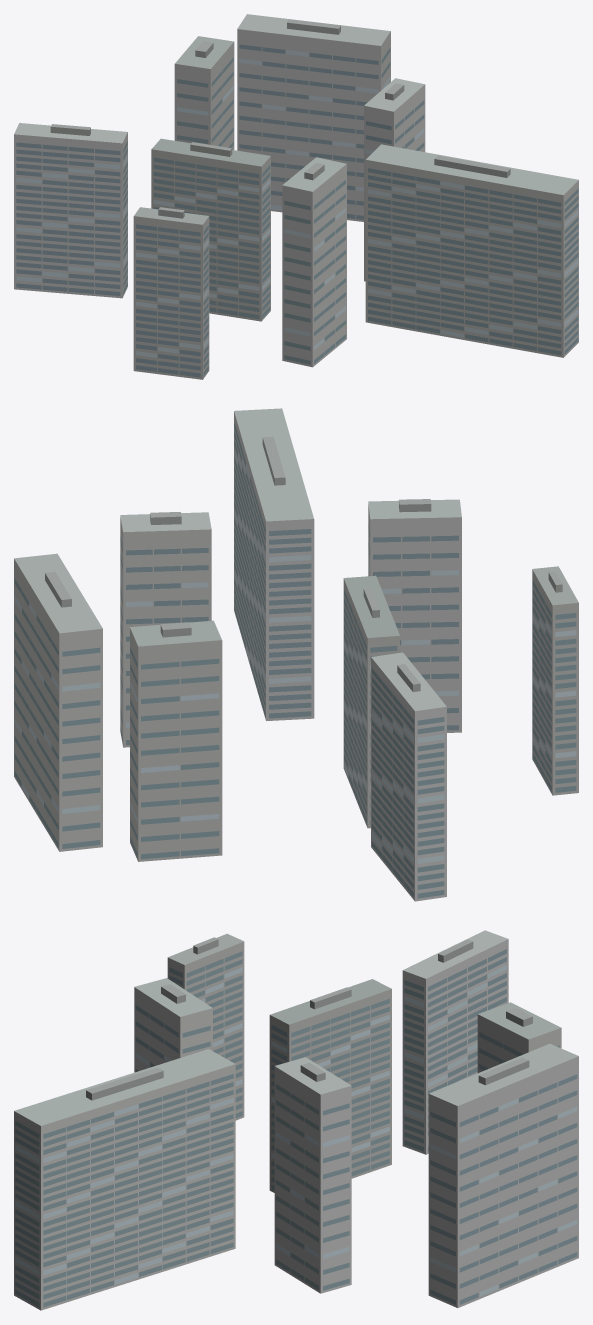
Rendered from apt-a15105503.glb.
3 views of the same model, one above another, from view 1: azimuth 30°, elevation 25°; view 2: azimuth 150°, elevation 25°; view 3: azimuth 270°, elevation 25° (orthographic). The views are drawn at different scales.
Parts seen in each view (by area): view 1: apt-a15105503; view 2: apt-a15105503; view 3: apt-a15105503.
Part boxes in pixels (x1=…): apt-a15105503: x1=14, y1=14, x2=578, y2=379; apt-a15105503: x1=14, y1=408, x2=578, y2=901; apt-a15105503: x1=14, y1=930, x2=578, y2=1310.
Bounding box in the file's own units: 151 × 72 × 176.
